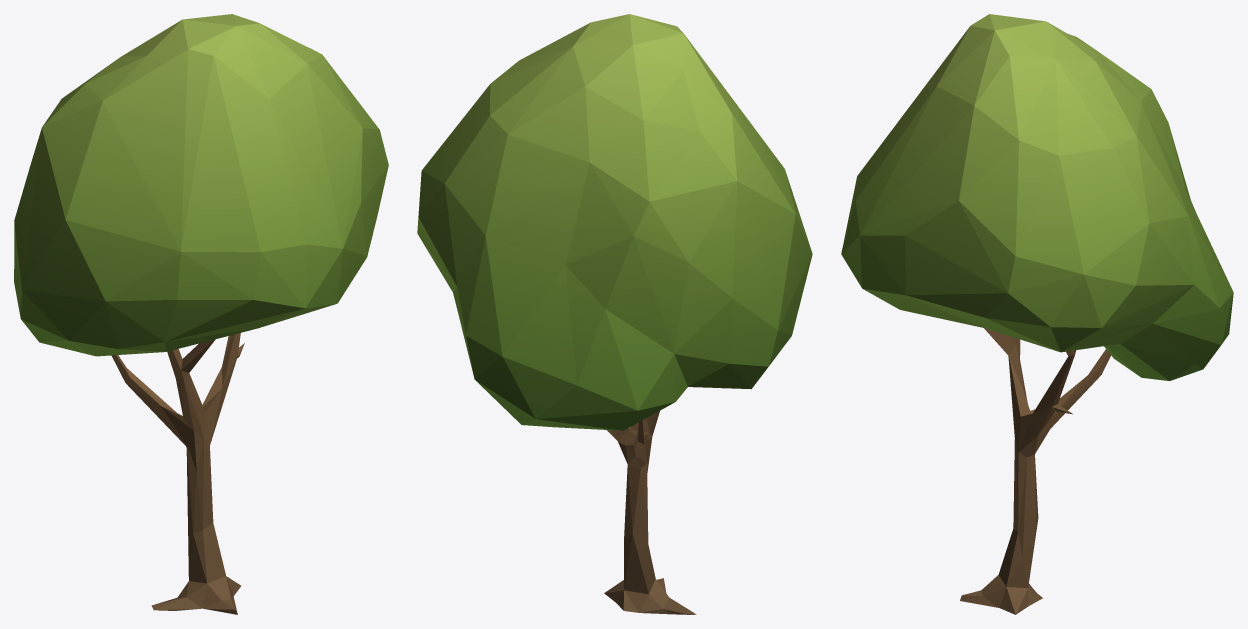
Rendered from tree_13.glb.
The picture shows the model from 3 angles, left to right: view 1: azimuth 30°, elevation 25°; view 2: azimuth 150°, elevation 25°; view 3: azimuth 270°, elevation 25°; orthographic projection.
Visible parts, largest first — view 1: Spring_Tree_13_LOD1; view 2: Spring_Tree_13_LOD1; view 3: Spring_Tree_13_LOD1.
Boxes of the visible parts, x1=… form: Spring_Tree_13_LOD1: x1=14, y1=14, x2=388, y2=614; Spring_Tree_13_LOD1: x1=417, y1=14, x2=812, y2=614; Spring_Tree_13_LOD1: x1=841, y1=14, x2=1233, y2=614.
Bounding box in the file's own units: 4.56 × 7.23 × 4.42.
Materials: 1 (1 with a texture image).
